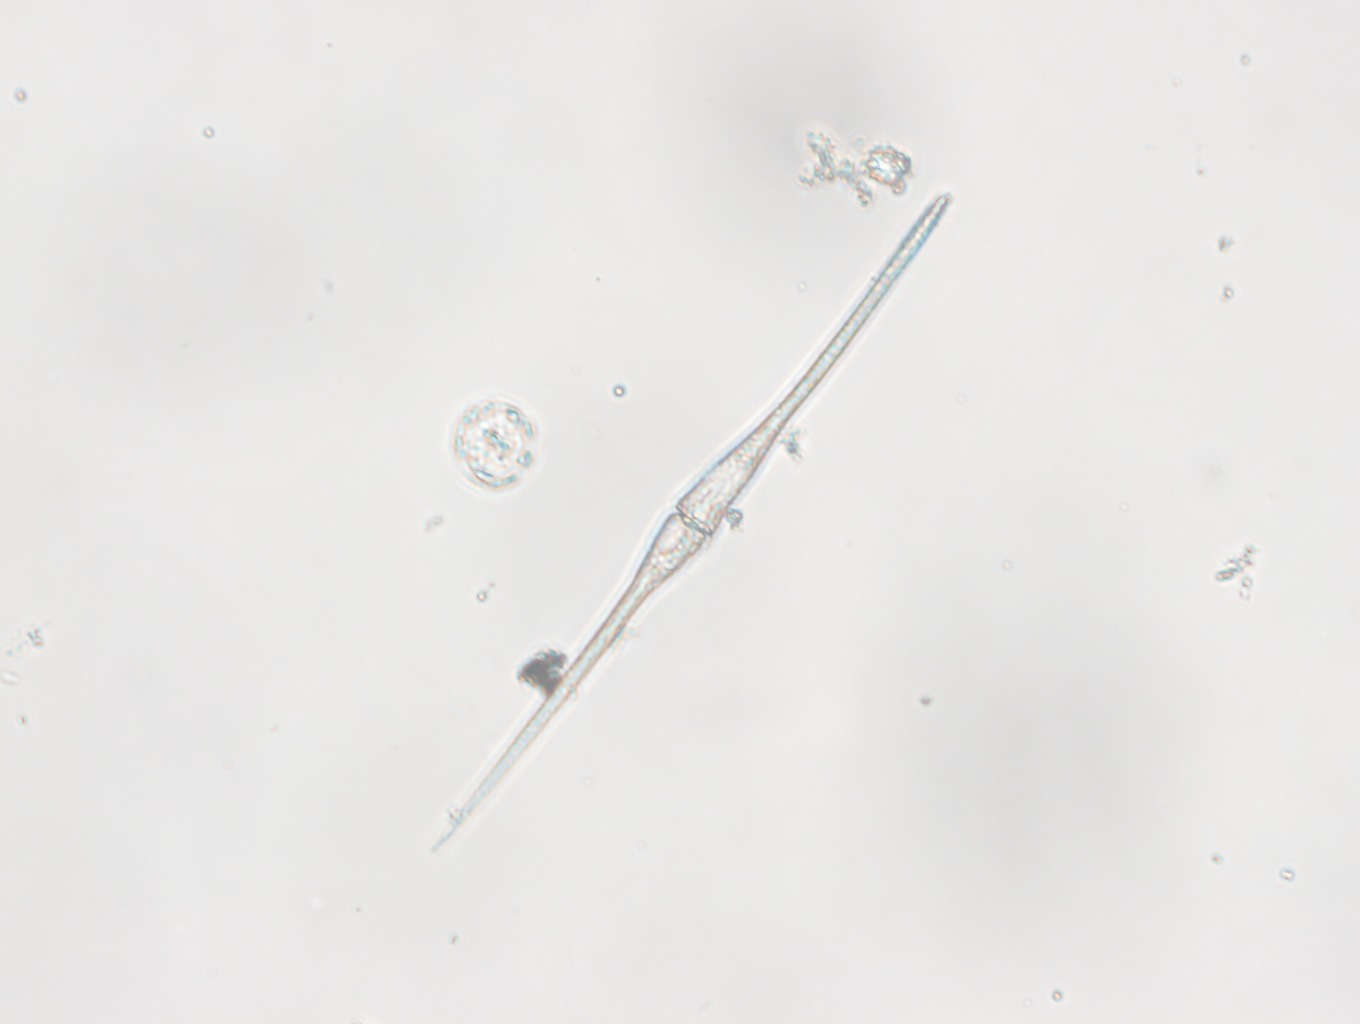ceratium fusus: (424, 189, 953, 858)
